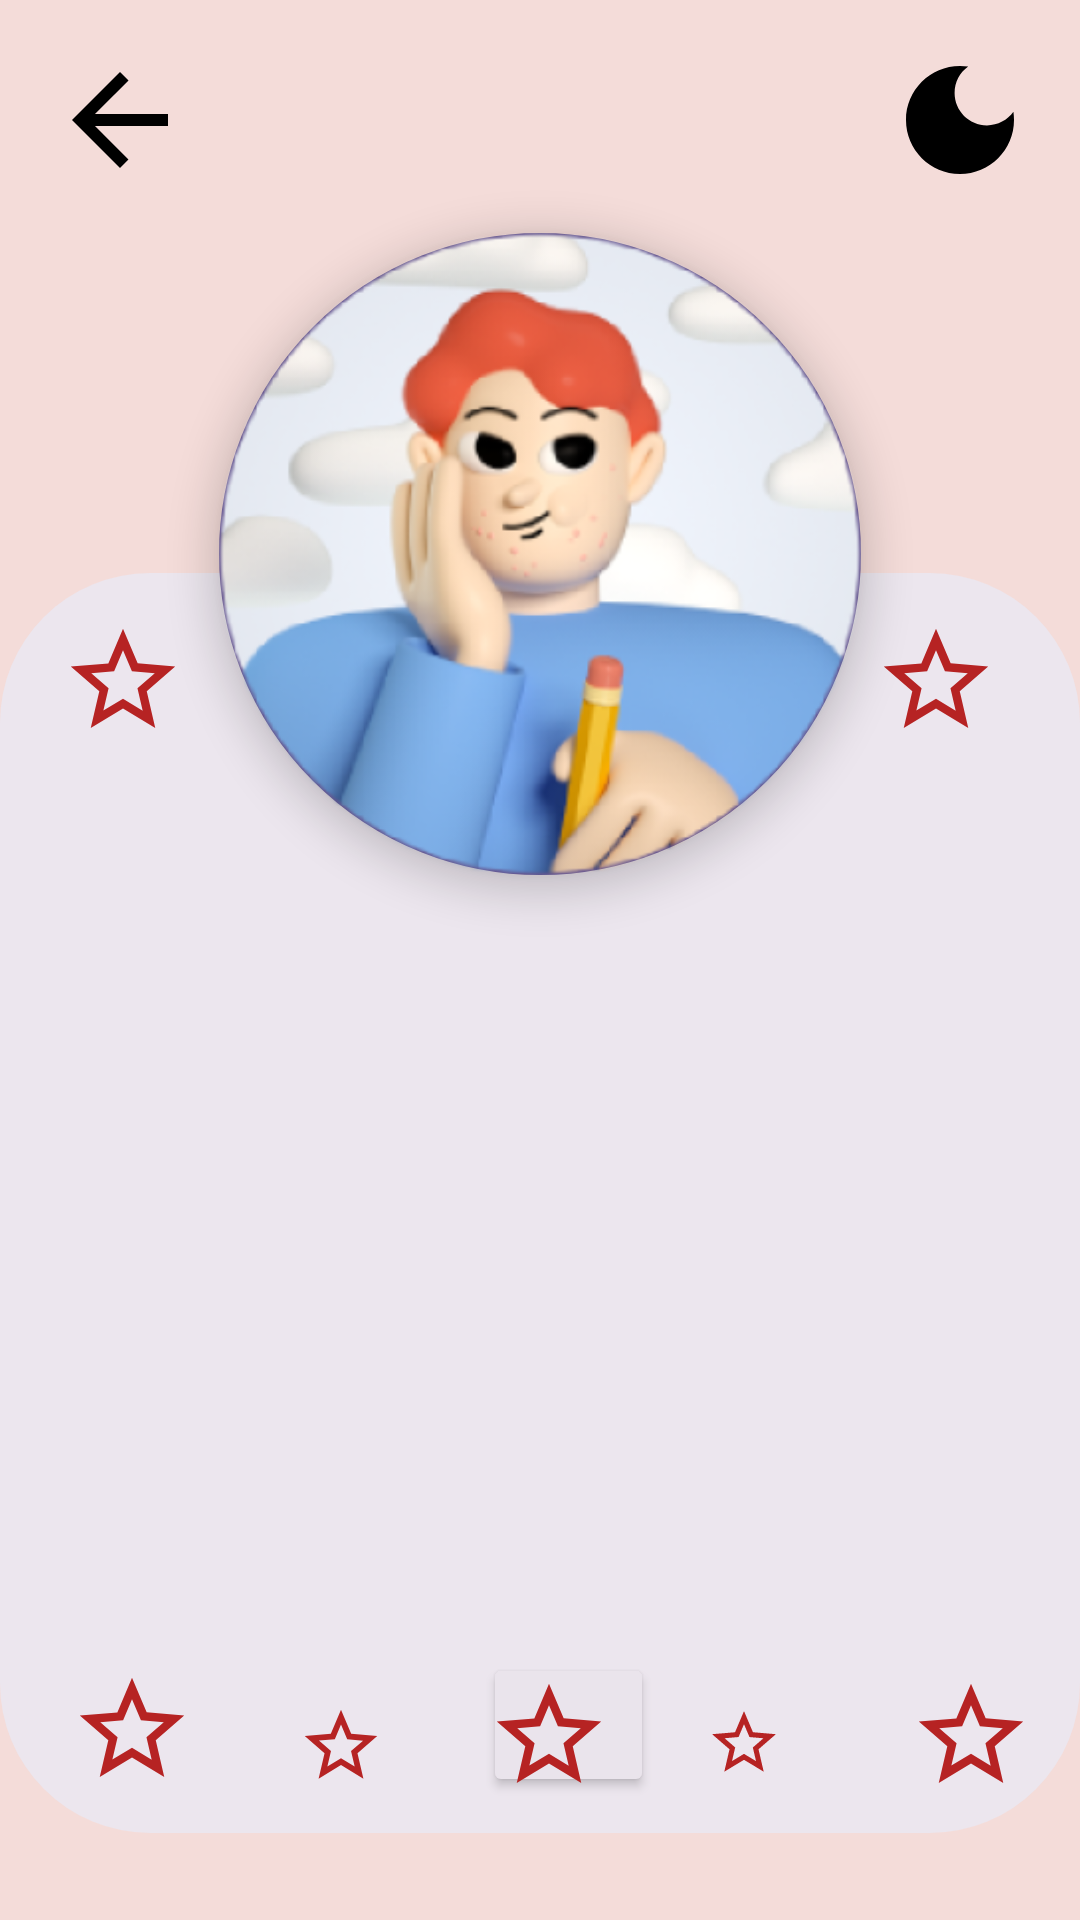

Screen size 1080px x 1920px. Icon name, then its center in pixels as point (x, y):
Back: point (120, 120)
Dark Mode Toggle: point (960, 120)
